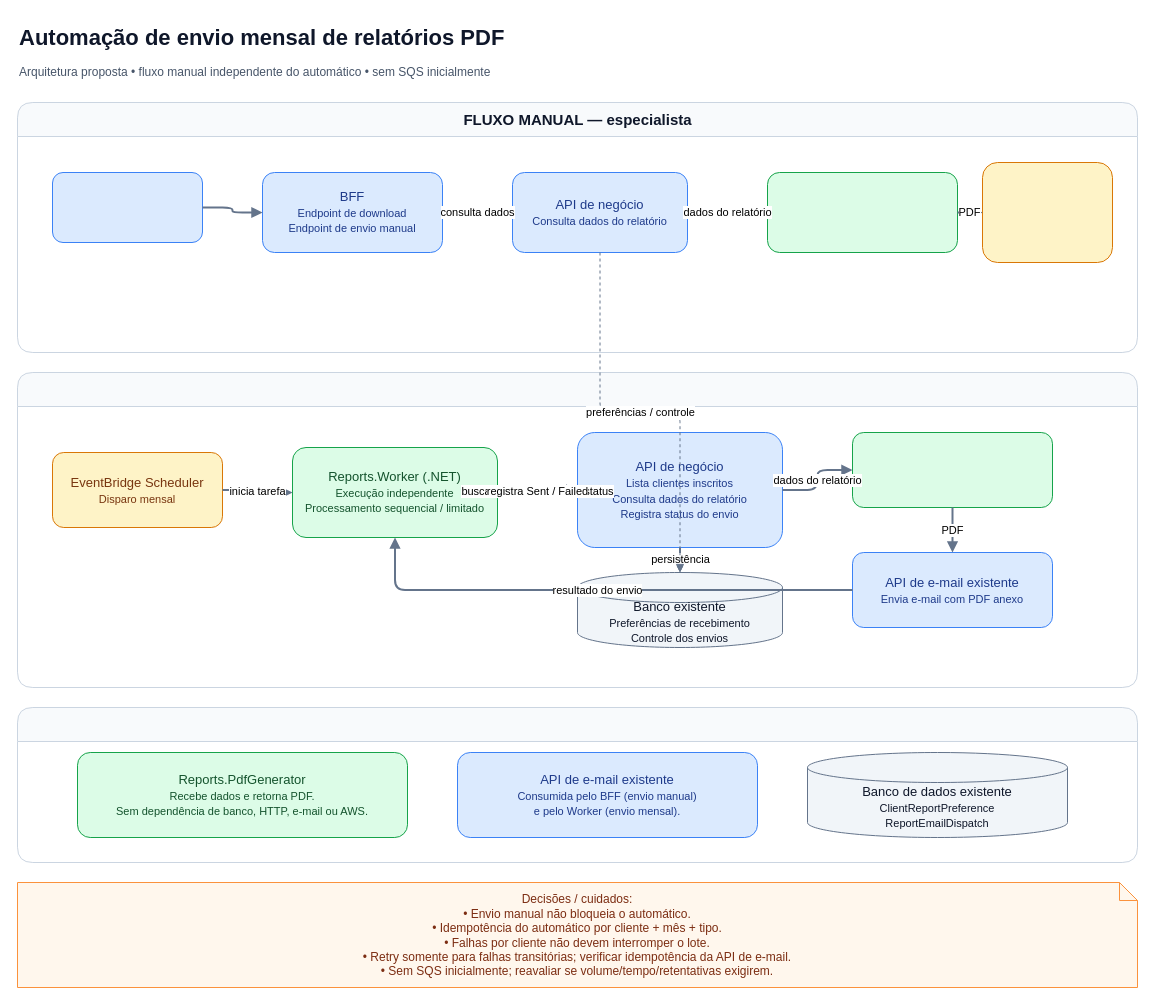
Image size: 1155x1005. Some labels were removed from this diagram. Here are the shapes that lost their labels. From the top down, the box of each, then its label:
(52, 172, 202, 242): Especialista Baixar ou enviar agora
(766, 172, 958, 252): Reports.PdfGenerator Biblioteca .NET compartilhada
(982, 162, 1112, 262): Download do PDF OU API de e-mail existente
(852, 432, 1052, 508): Reports.PdfGenerator Gera PDF em bytes/stream
(16, 372, 1138, 688): FLUXO AUTOMÁTICO — mensal
(16, 706, 1138, 862): COMPONENTES COMPARTILHADOS
